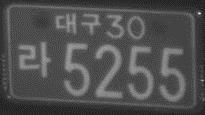0: (127, 15, 145, 39)
2: (94, 43, 123, 97)
3: (105, 13, 125, 39)
5: (158, 46, 186, 102), (63, 42, 90, 97), (128, 45, 154, 99)
대구_O: (54, 12, 101, 36)
라: (17, 40, 51, 76)
